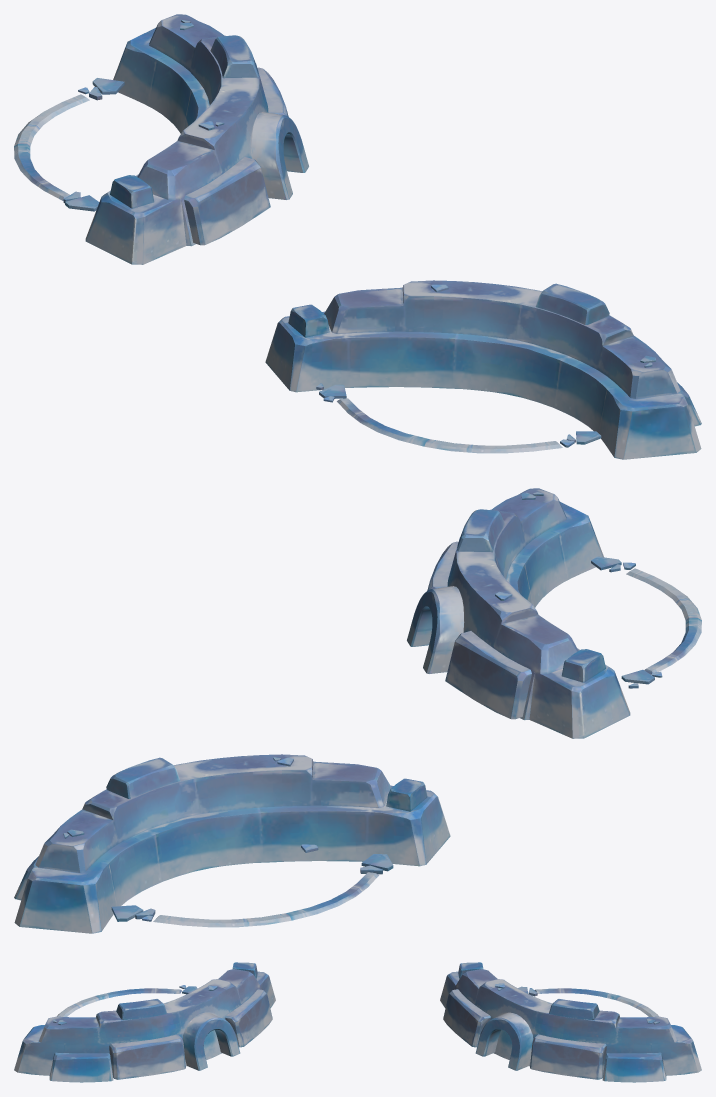
The model's file is pref_sm_beach_winter_icewall01_lv3.fbx.
The picture shows the model from 3 angles, top to bottom: view 1: azimuth 30°, elevation 25°; view 2: azimuth 150°, elevation 25°; view 3: azimuth 270°, elevation 25°; orthographic projection. The views are drawn at different scales.
Parts seen in each view (by area): view 1: pref_sm_beach_winter_icewall01_lv3; view 2: pref_sm_beach_winter_icewall01_lv3; view 3: pref_sm_beach_winter_icewall01_lv3.
Boxes of the visible parts, box(x1,y1,x2,y2) form: pref_sm_beach_winter_icewall01_lv3: box(14, 14, 701, 459); pref_sm_beach_winter_icewall01_lv3: box(14, 488, 701, 933); pref_sm_beach_winter_icewall01_lv3: box(14, 962, 701, 1082).
Bounding box in the file's own units: 8.23 × 2.57 × 27.17.
